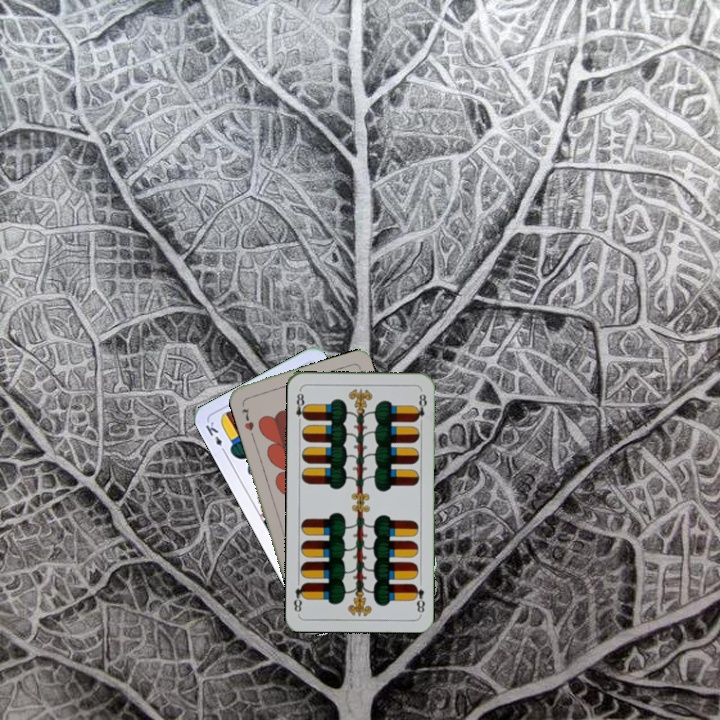E8: (292, 386, 310, 427), (409, 580, 427, 616)
EK: (201, 417, 229, 456)
H7: (238, 405, 257, 433)
